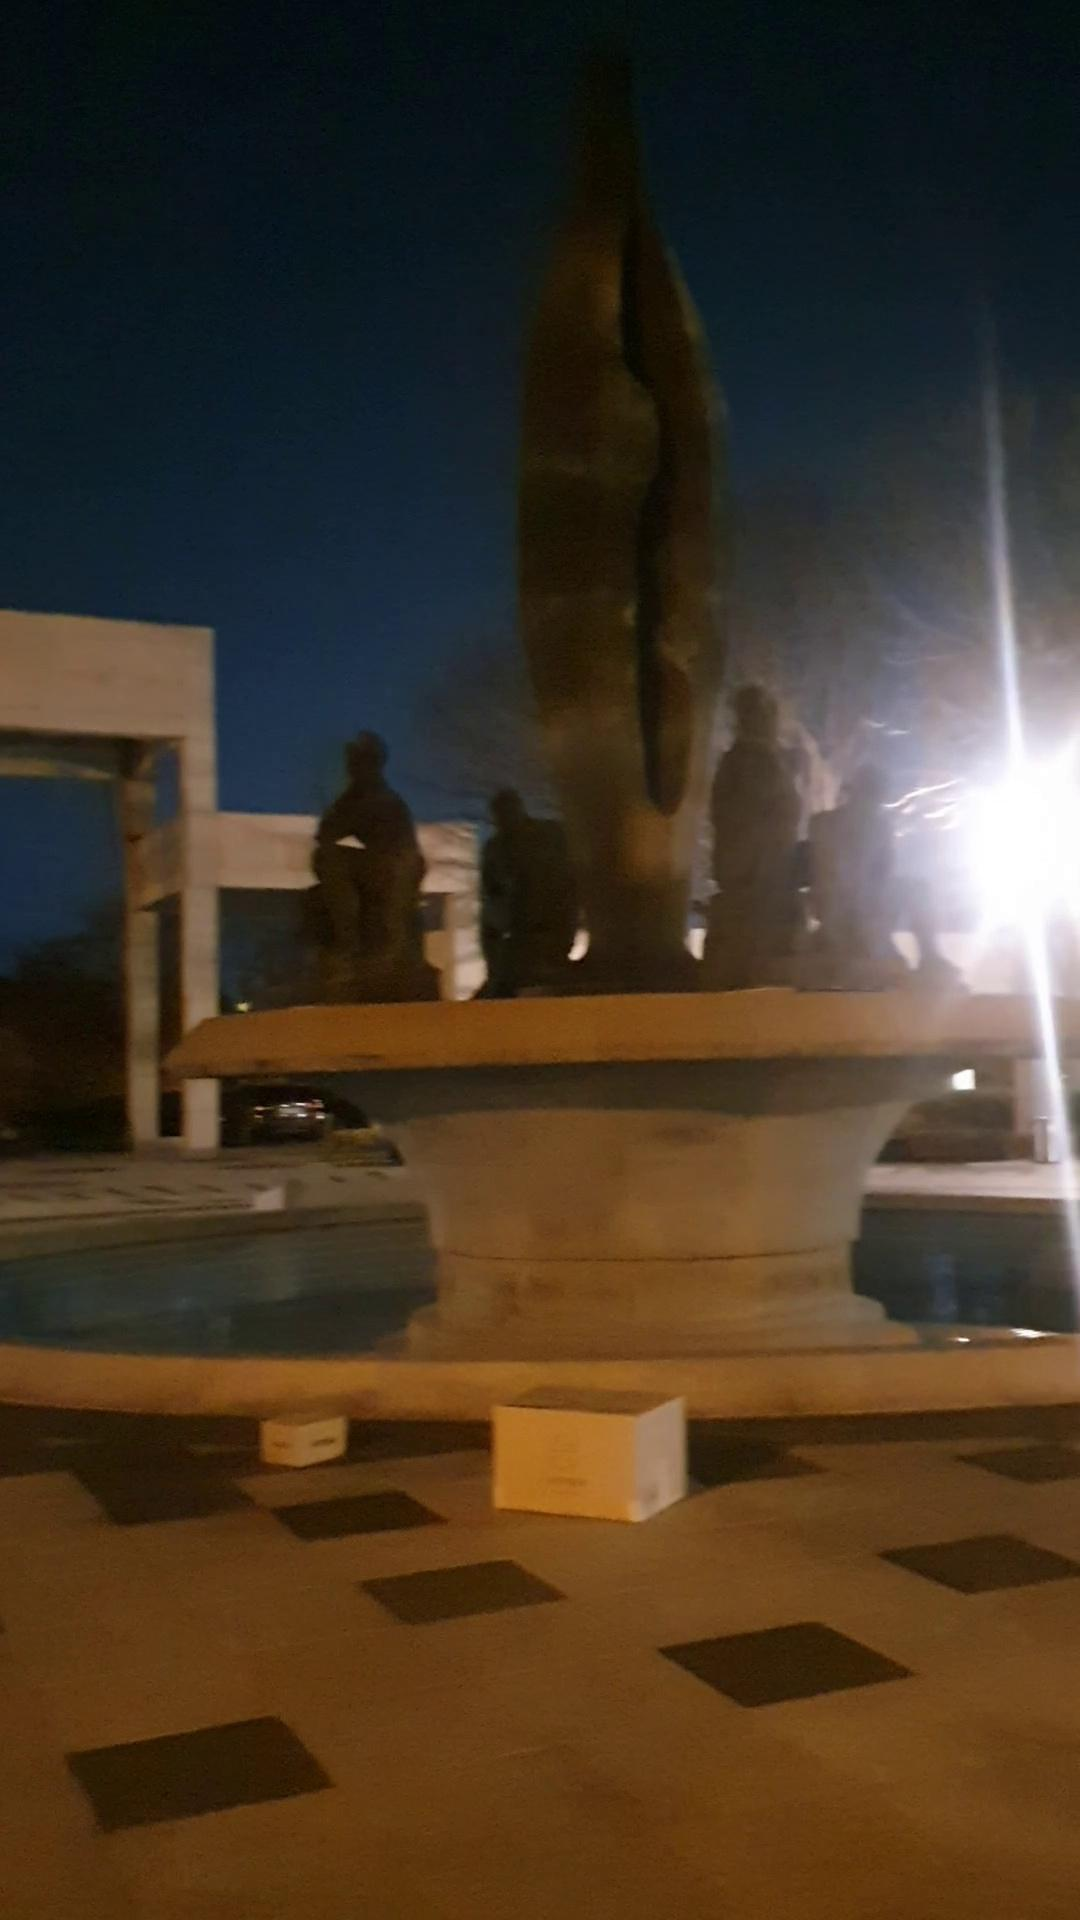Box: (493, 1373, 694, 1528), (251, 1400, 353, 1466)
